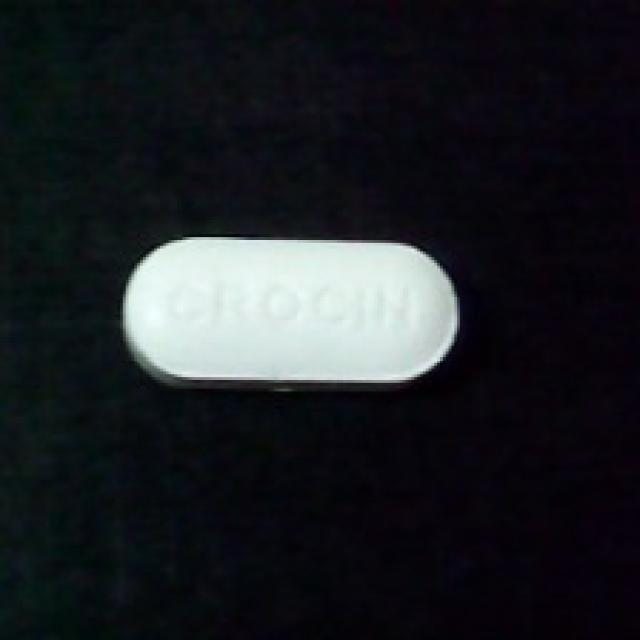no-defect: (114, 234, 463, 394)
